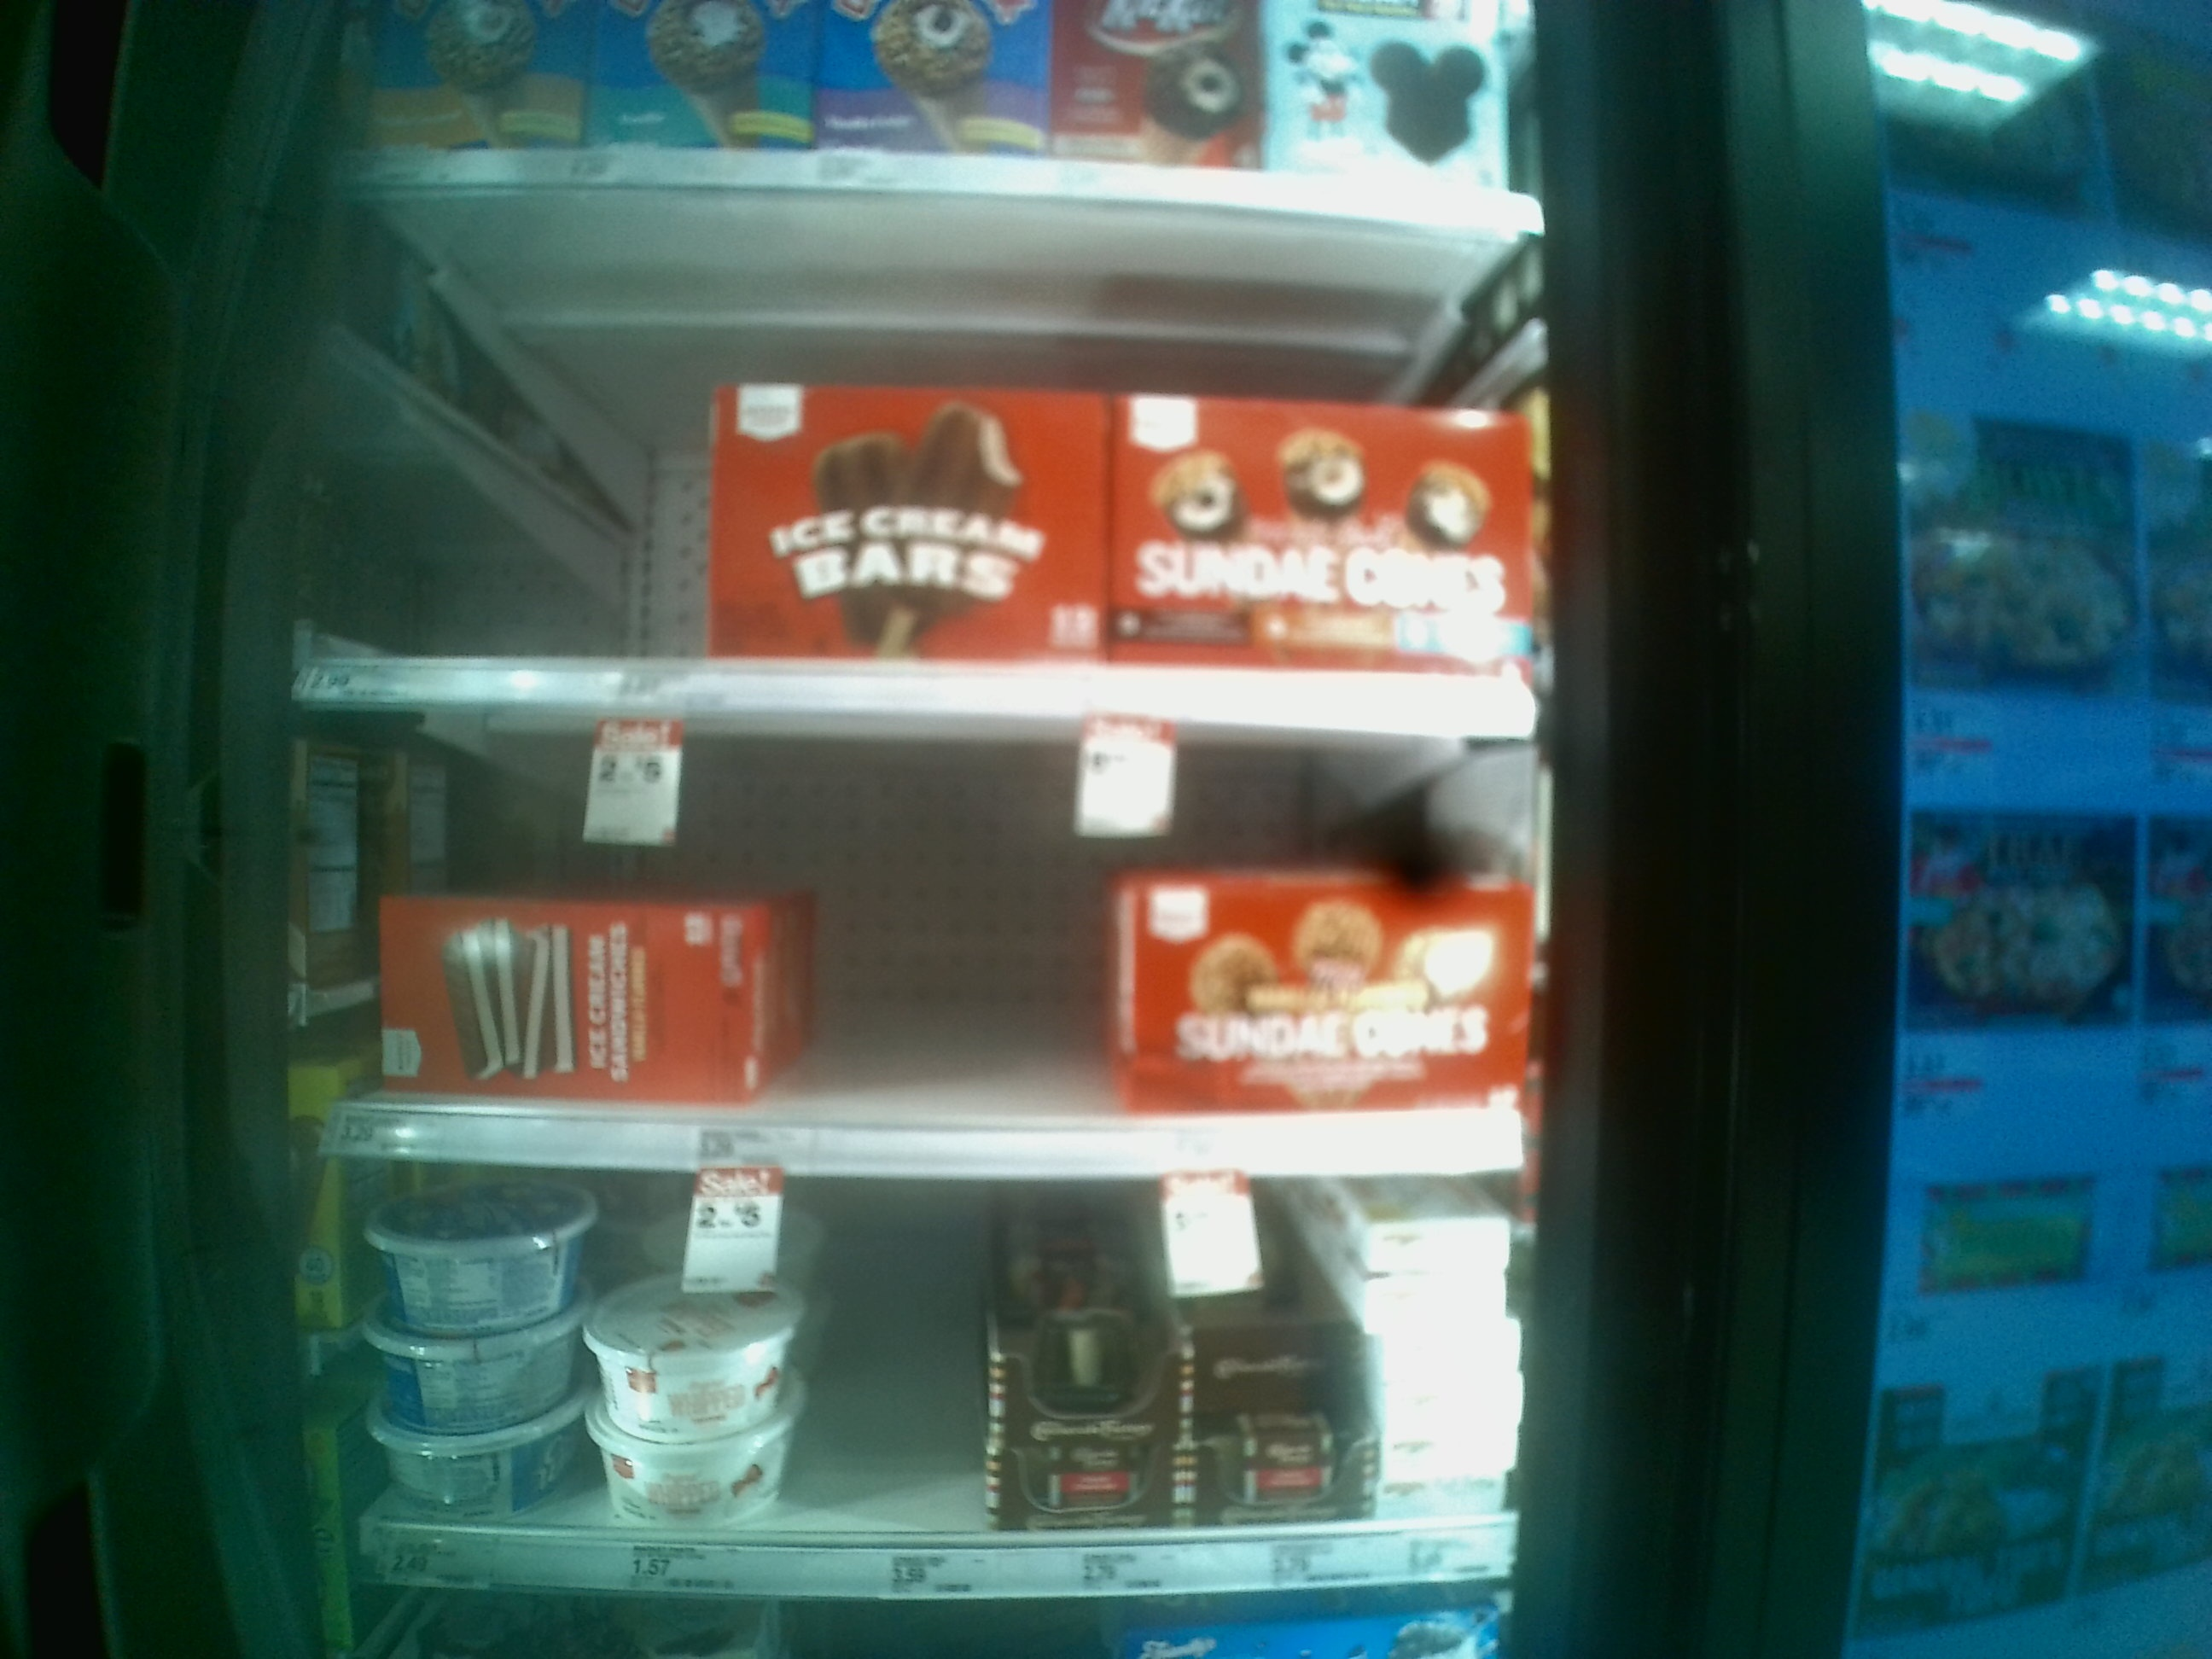frozen-food-shelf: (263, 704, 1550, 1180), (263, 1178, 1575, 1601)
